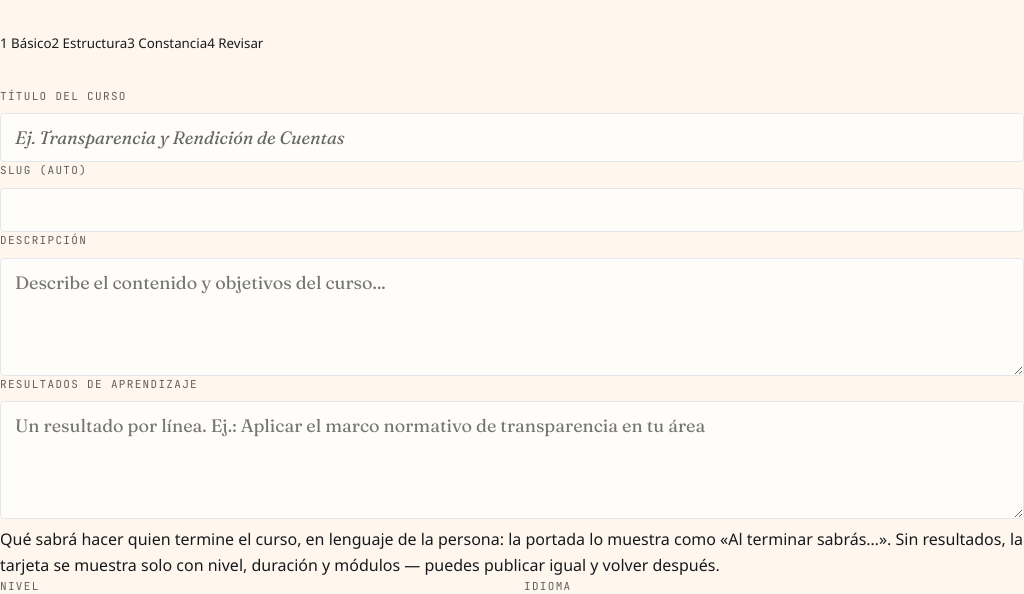
Test: AdminCourseEditor › el aviso de resultados aparece en Revisar solo cuando el campo está vacío
This screenshot has width=1024, height=594.
Click the button with class "editor-step-btn" showing "4 Revisar". click: x=235, y=43
box: left=207, top=34, right=263, bottom=52
(page scrolled)
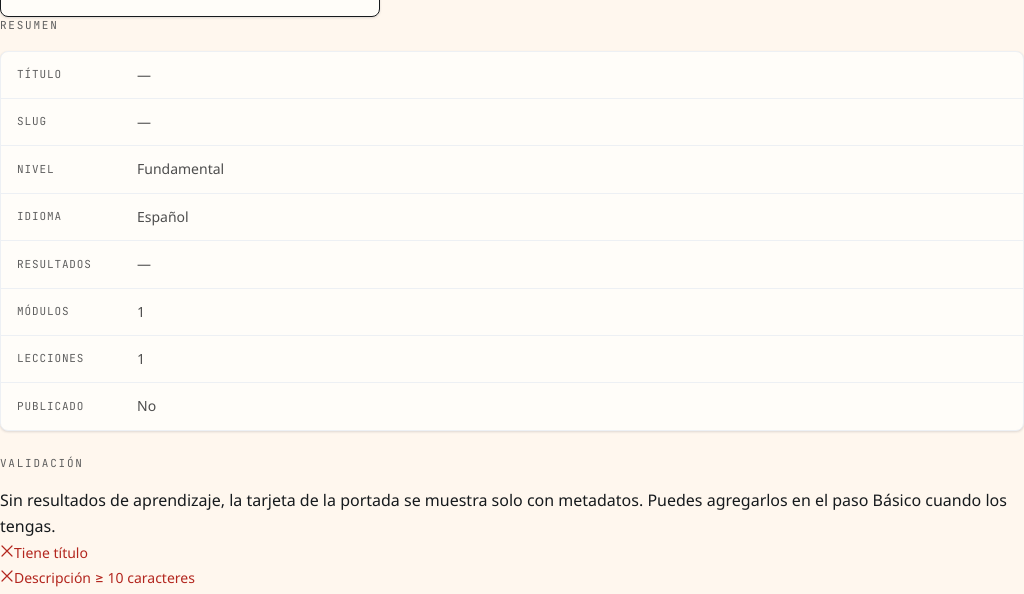
Now the text with test id "aviso-resultados" is shown, box left=0, top=488, right=1023, bottom=540
